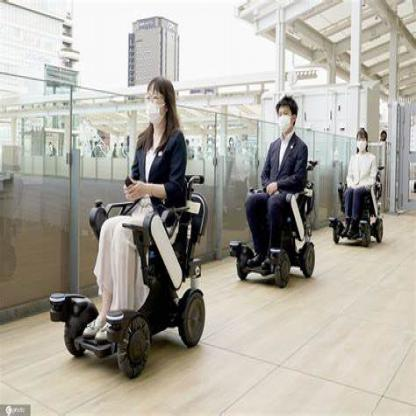wheelchair: (49, 75, 209, 384), (227, 94, 317, 284), (327, 126, 386, 249)
